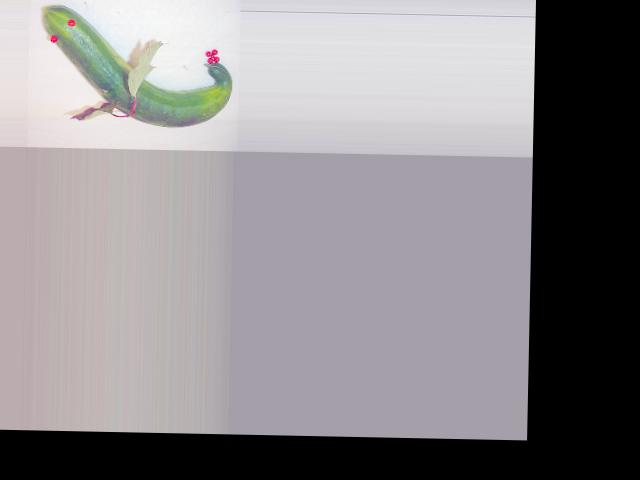cucumber: (41, 4, 234, 128)
